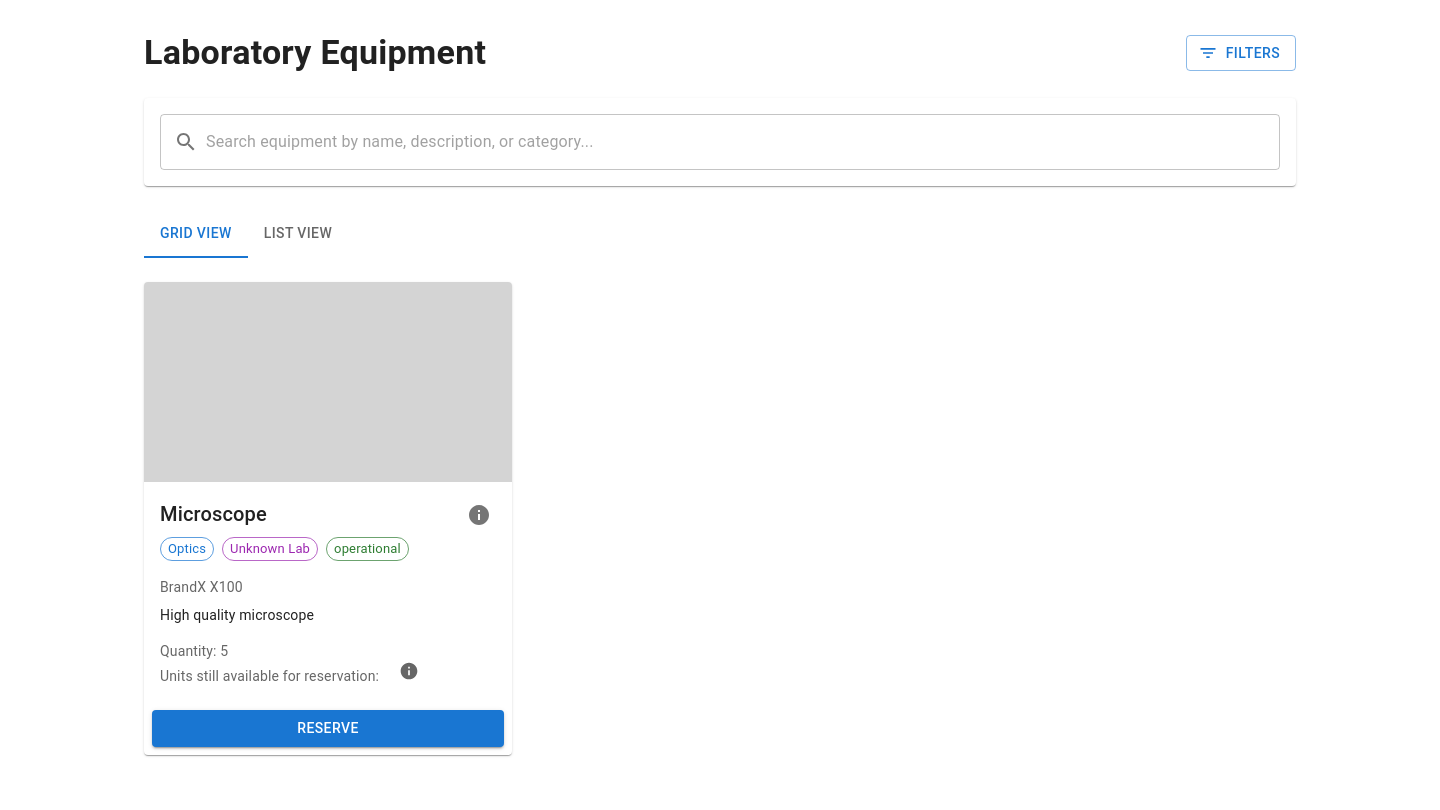
Scenario: Equipment Component › opens reservation dialog when Reserve button clicked
The width and height of the screenshot is (1440, 810).
Click the button "Reserve" at x=328, y=728, box [152,710,504,746]
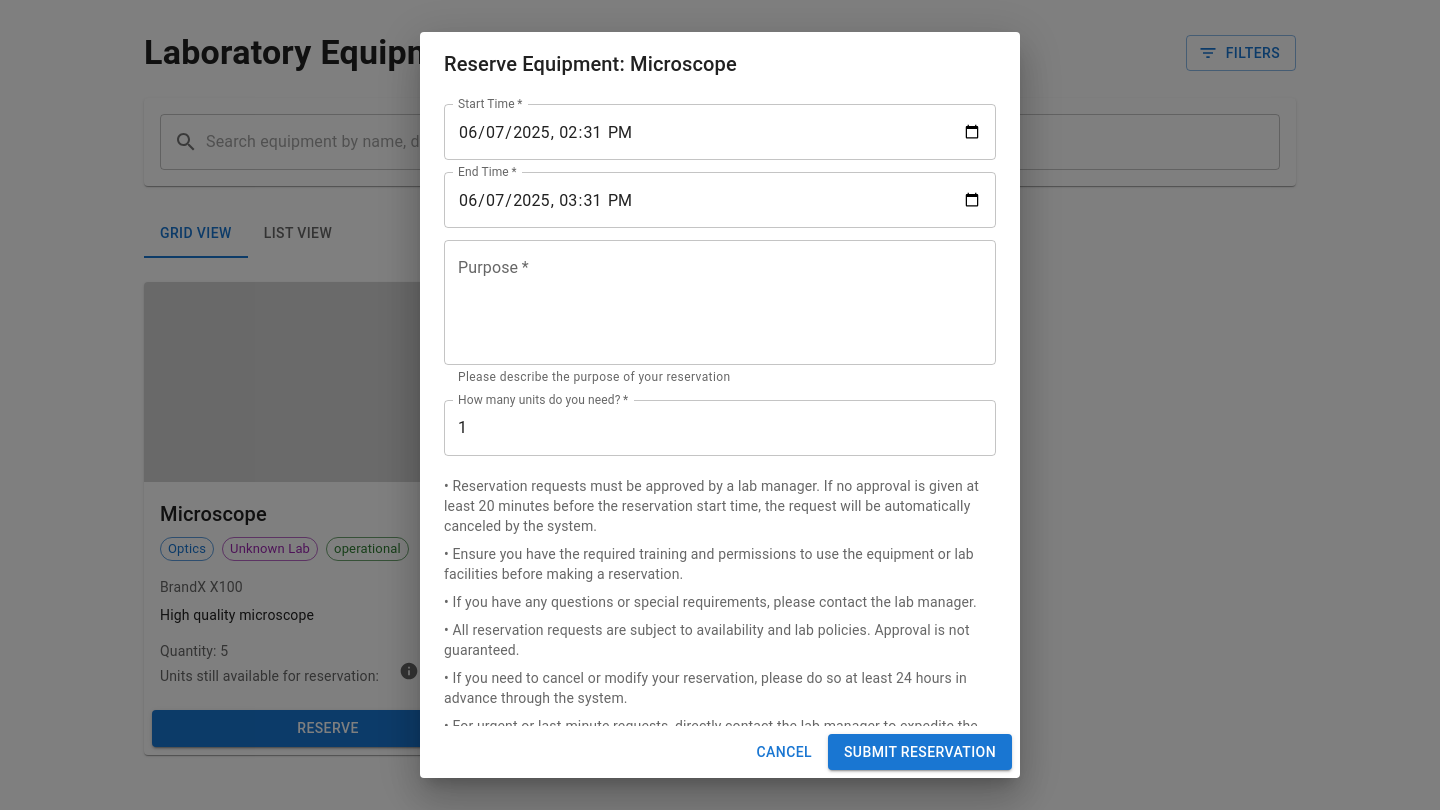
Check: the heading "Reserve Equipment: Microscope" is shown, box [444,52,737,76]
